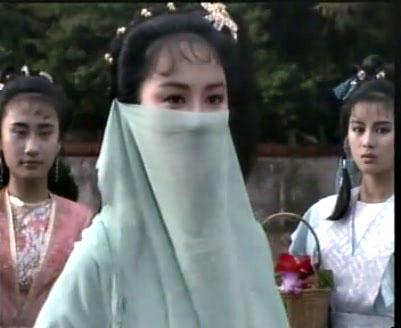NONE: (6, 119, 62, 175), (353, 119, 395, 173)
OK: (142, 79, 227, 173)
